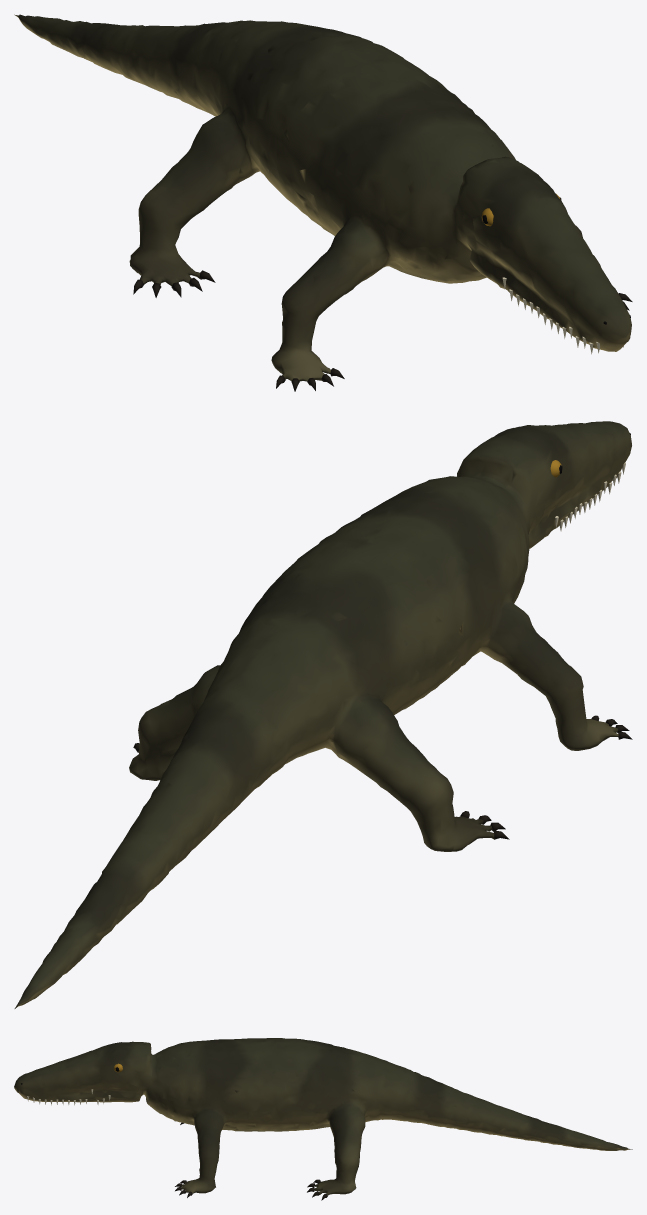
File: Ophiacodon.fbx
3 renders of one model, top to bottom at view 1: azimuth 30°, elevation 25°; view 2: azimuth 150°, elevation 25°; view 3: azimuth 270°, elevation 25°, orthographic. The views are drawn at different scales.
Parts seen in each view (by area): view 1: Ophiacodon; view 2: Ophiacodon; view 3: Ophiacodon.
Part boxes in pixels (x1,y1,x2,y2): Ophiacodon: [14, 14, 632, 391]; Ophiacodon: [14, 421, 632, 1008]; Ophiacodon: [14, 1038, 632, 1200].
Size of the model in its own units: 0.7312 by 0.4159 by 2.06.
